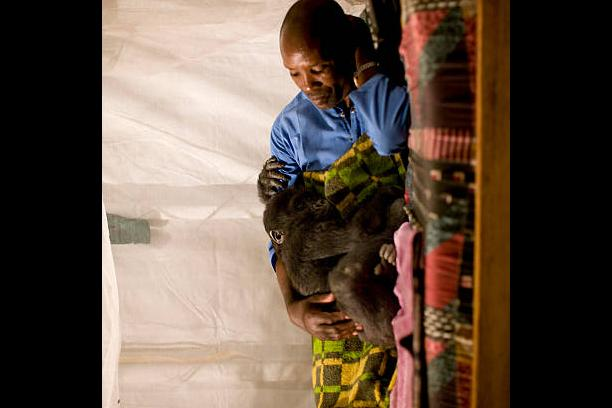gorille_Autres: (266, 184, 399, 285)
